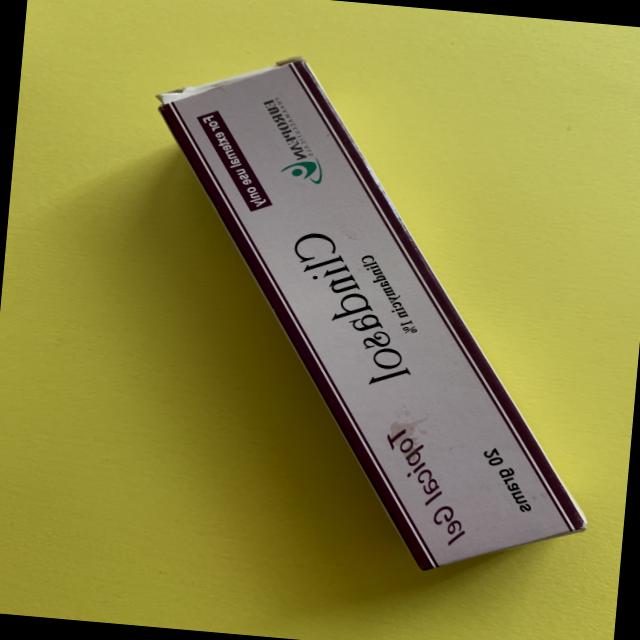medicine_packaging: (91, 27, 640, 599)
